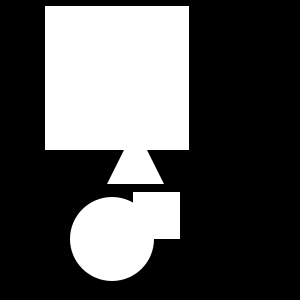circle: (45, 6, 189, 150), (133, 192, 180, 239)
rectangle: (70, 197, 154, 281), (66, 120, 84, 136)
triangle: (107, 127, 164, 184)
